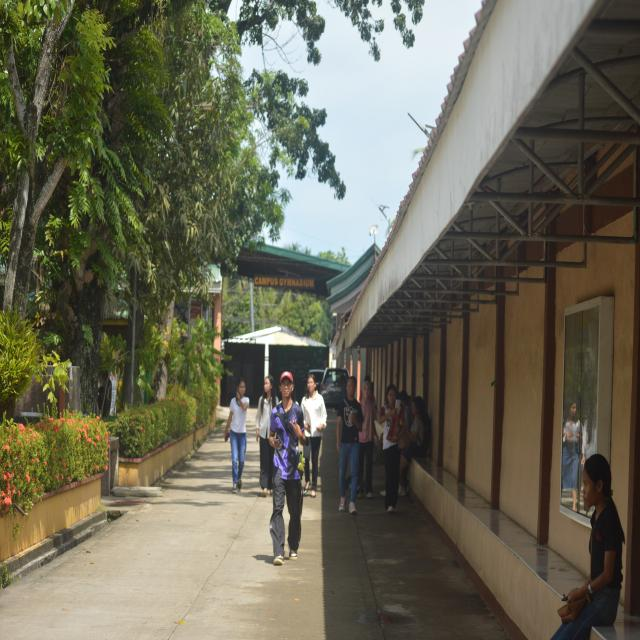person: (552, 454, 624, 639), (270, 372, 305, 565), (337, 377, 363, 514), (380, 384, 405, 512), (301, 374, 327, 497), (399, 397, 430, 495), (225, 378, 249, 492), (256, 375, 277, 496), (358, 381, 376, 498), (562, 402, 580, 511)
